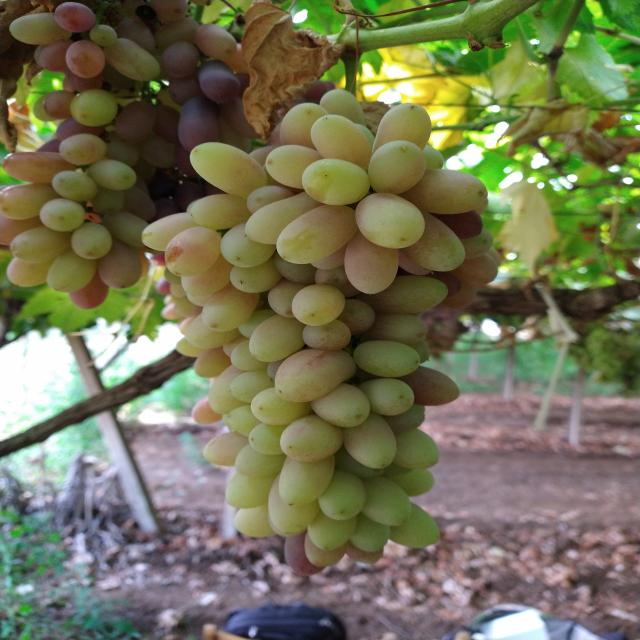grapes: (380, 212, 465, 272), (276, 204, 358, 264), (244, 190, 332, 244), (274, 349, 357, 403), (189, 142, 268, 197), (396, 169, 488, 215), (355, 192, 425, 248), (344, 229, 400, 295), (355, 275, 448, 314), (310, 114, 371, 170), (301, 158, 371, 205), (371, 103, 433, 156), (367, 140, 426, 195), (268, 472, 320, 534), (342, 411, 396, 469), (280, 414, 343, 463), (278, 454, 336, 506), (165, 226, 222, 278), (308, 382, 371, 428), (264, 145, 328, 189), (249, 313, 306, 362), (202, 282, 260, 330), (208, 364, 260, 414), (353, 340, 421, 378), (361, 476, 412, 526), (317, 469, 366, 521), (220, 223, 276, 268), (389, 502, 441, 549), (141, 212, 202, 252), (106, 38, 161, 82), (3, 152, 76, 185), (279, 102, 330, 149), (251, 387, 312, 426), (401, 366, 460, 406), (10, 226, 72, 264), (190, 193, 253, 230), (179, 96, 220, 152), (98, 237, 142, 289), (292, 284, 346, 326), (246, 217, 277, 290), (0, 183, 61, 220), (8, 12, 74, 46), (46, 249, 96, 293), (180, 256, 232, 298), (185, 310, 241, 349), (356, 379, 414, 416), (307, 508, 357, 550), (284, 530, 326, 577), (230, 257, 283, 294), (366, 314, 427, 346), (318, 89, 368, 128), (392, 428, 439, 469), (198, 60, 241, 104), (235, 443, 288, 478), (102, 211, 150, 249), (226, 473, 278, 508), (70, 89, 117, 127), (383, 462, 434, 497), (68, 268, 110, 310), (115, 101, 155, 145), (427, 208, 483, 239), (229, 370, 280, 404), (65, 40, 107, 80), (85, 159, 137, 191), (448, 252, 498, 285), (348, 512, 389, 552), (314, 264, 362, 298), (336, 444, 384, 478), (222, 101, 266, 138), (192, 23, 237, 59), (267, 280, 307, 320), (304, 530, 347, 567), (302, 319, 351, 351), (248, 423, 297, 455), (59, 134, 108, 166), (203, 432, 249, 466), (40, 198, 86, 232), (0, 212, 45, 246), (336, 297, 376, 335), (71, 222, 112, 259), (6, 257, 56, 287), (274, 251, 318, 285), (216, 43, 261, 76), (161, 41, 200, 79), (246, 186, 295, 216), (118, 15, 157, 52), (262, 160, 307, 192), (52, 171, 98, 201), (152, 19, 198, 49), (230, 339, 270, 372), (311, 236, 349, 270), (268, 504, 307, 537), (234, 506, 275, 537), (140, 134, 177, 168), (194, 345, 232, 378), (57, 116, 105, 142), (55, 1, 94, 33), (379, 405, 425, 432), (237, 309, 277, 340), (226, 404, 262, 438), (104, 132, 140, 166), (459, 226, 494, 260), (152, 104, 180, 143), (124, 187, 157, 220), (345, 538, 384, 564), (425, 272, 462, 298), (38, 41, 69, 72), (445, 280, 477, 310), (398, 249, 432, 276), (90, 187, 124, 214), (192, 394, 222, 424), (44, 90, 74, 118), (156, 85, 187, 112), (170, 76, 202, 102), (152, 0, 187, 23), (33, 90, 58, 122), (301, 80, 336, 102), (248, 145, 279, 167), (90, 25, 120, 47), (350, 124, 376, 148), (223, 335, 250, 358), (422, 144, 445, 169), (175, 336, 202, 357), (407, 341, 430, 364), (174, 296, 198, 318), (146, 247, 171, 268), (33, 44, 56, 66), (187, 290, 213, 307), (35, 138, 62, 154), (267, 360, 285, 381), (180, 317, 198, 336), (161, 304, 181, 320), (486, 248, 501, 268), (164, 267, 182, 283), (473, 197, 488, 216), (269, 122, 280, 146), (186, 198, 202, 214), (169, 284, 187, 298), (156, 277, 170, 295), (192, 305, 204, 318), (164, 295, 174, 305)
